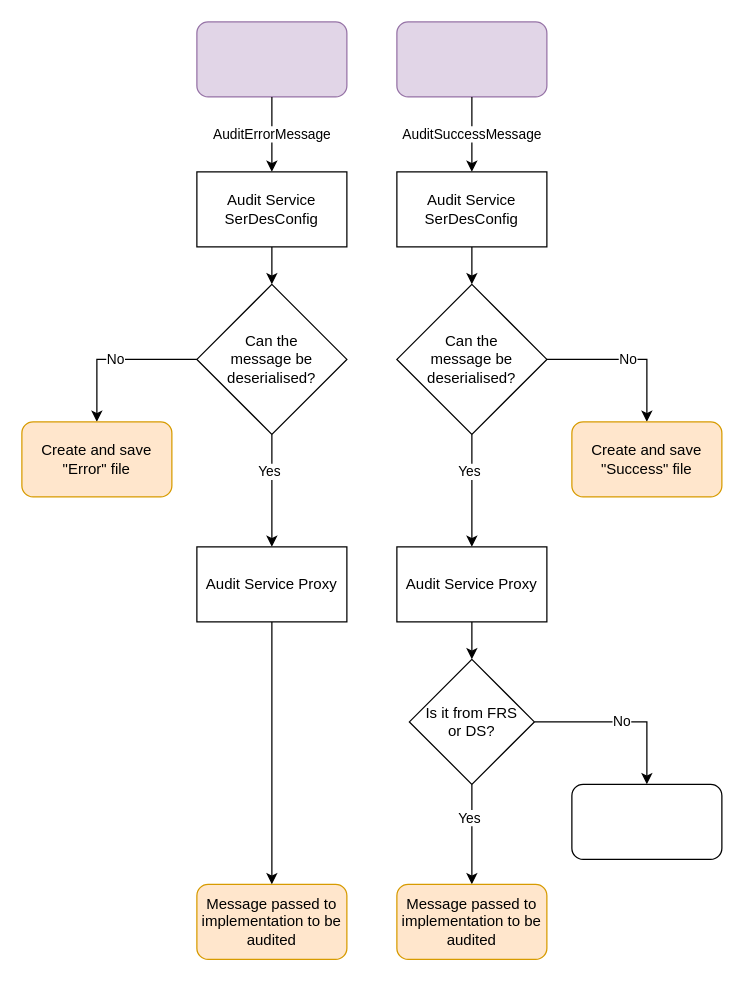
This 744x981 diagram has some shape labels left out. The shapes that lost their labels are listed below. From the top down, each one's box as (x1, y1, x2, y2) in pixels, then its label:
(196, 21, 347, 97): Read from Kafka "error" topic
(396, 21, 547, 97): Read from Kafka "success" topic
(571, 783, 722, 859): Log error message in Audit Service logs
